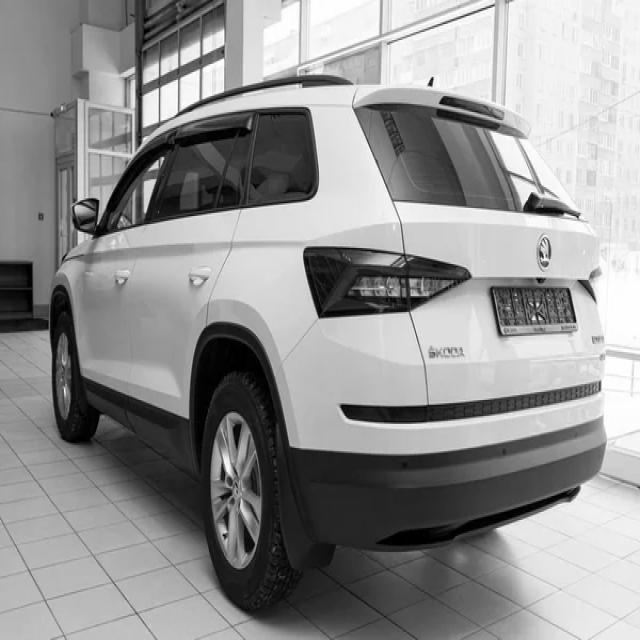Car: (50, 75, 607, 610)
